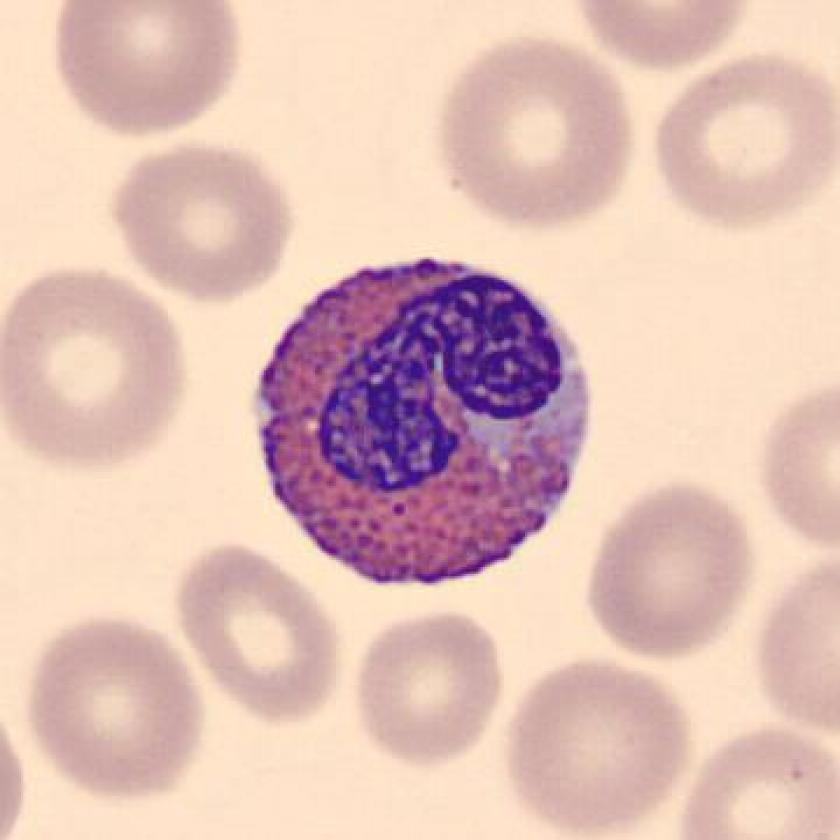eosinophil: (244, 244, 608, 603)
